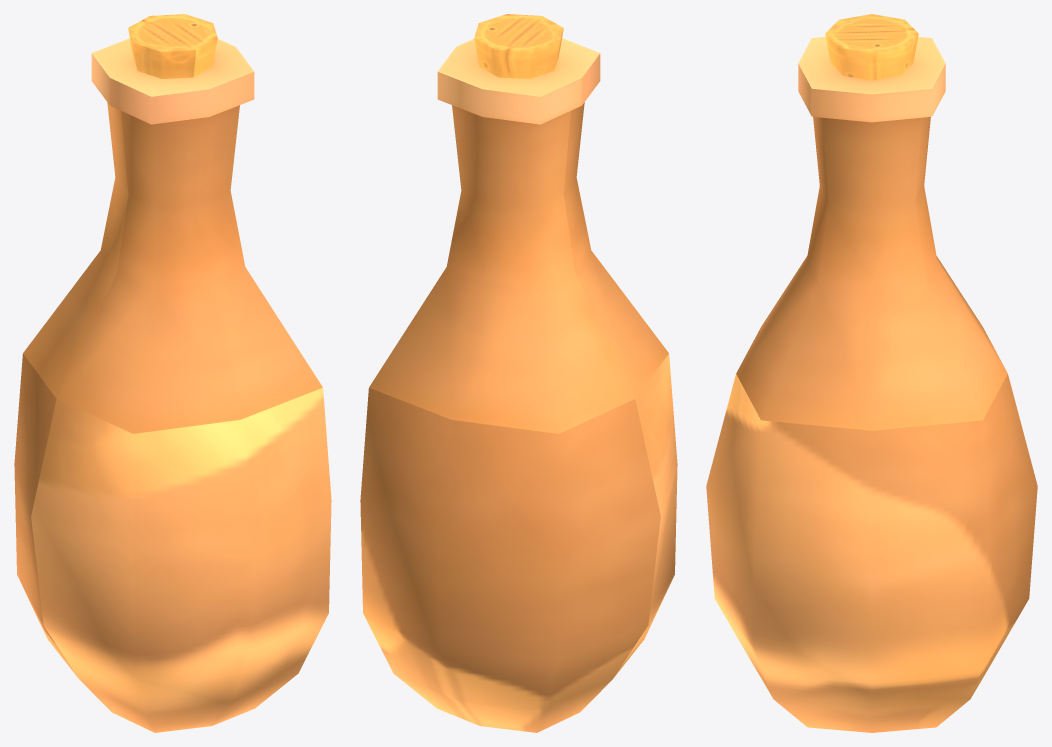
Rendered from SM_Stylized_Potion_E.fbx.
The picture shows the model from 3 angles, left to right: view 1: azimuth 30°, elevation 25°; view 2: azimuth 150°, elevation 25°; view 3: azimuth 270°, elevation 25°; orthographic projection.
Parts seen in each view (by area): view 1: SM_Stylized_Potion_E_LOD0; view 2: SM_Stylized_Potion_E_LOD0; view 3: SM_Stylized_Potion_E_LOD0.
Boxes of the visible parts, box(x1,y1,x2,y2) form: SM_Stylized_Potion_E_LOD0: box(14, 14, 331, 732); SM_Stylized_Potion_E_LOD0: box(360, 14, 677, 732); SM_Stylized_Potion_E_LOD0: box(706, 14, 1037, 732).
Size of the model in its own units: 5.3 by 5.32 by 11.85.
